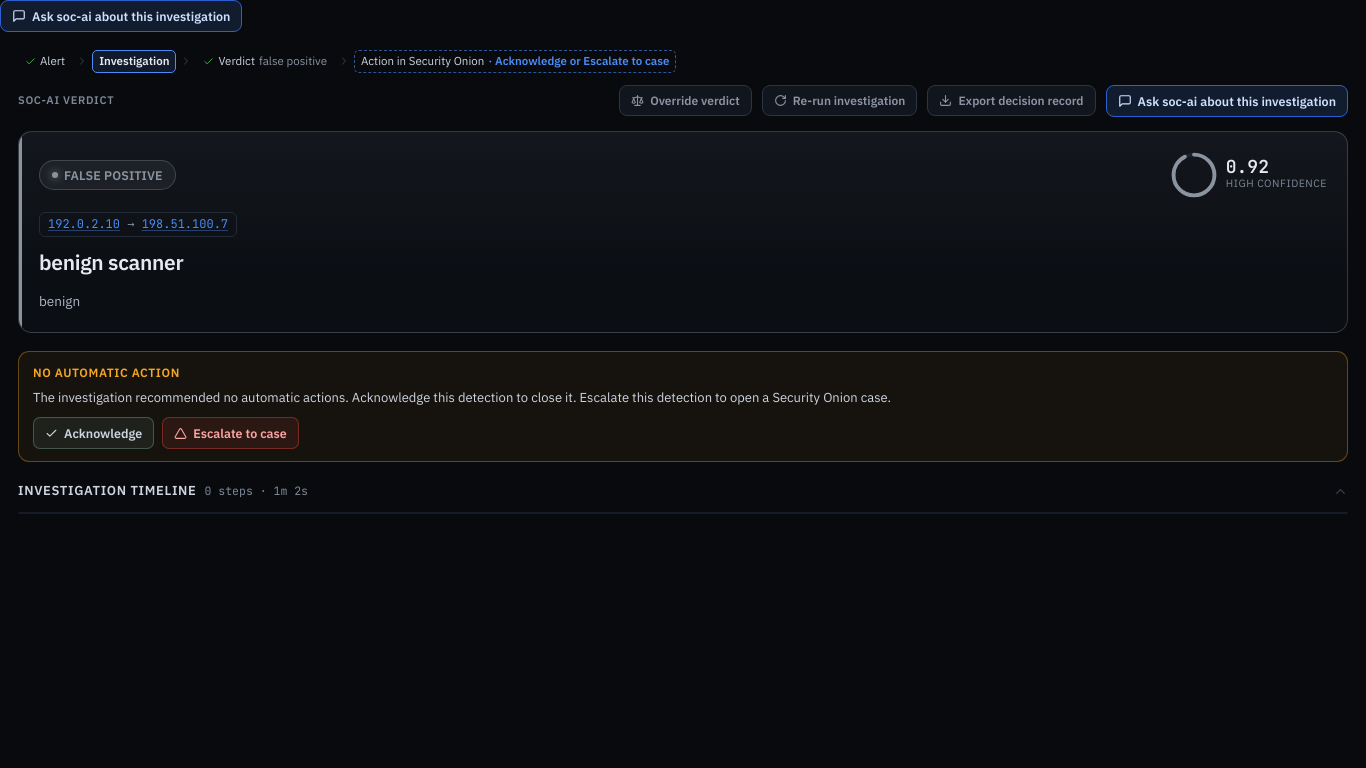
empty investigation chat › renders suggested starter questions when the thread is empty
The width and height of the screenshot is (1366, 768).
The chat is the Ask soc-ai panel. The drawer header opens it.
Step 1. Click the 1st button "Ask soc-ai about this investigation" → [121, 16], box [0,0,242,32]
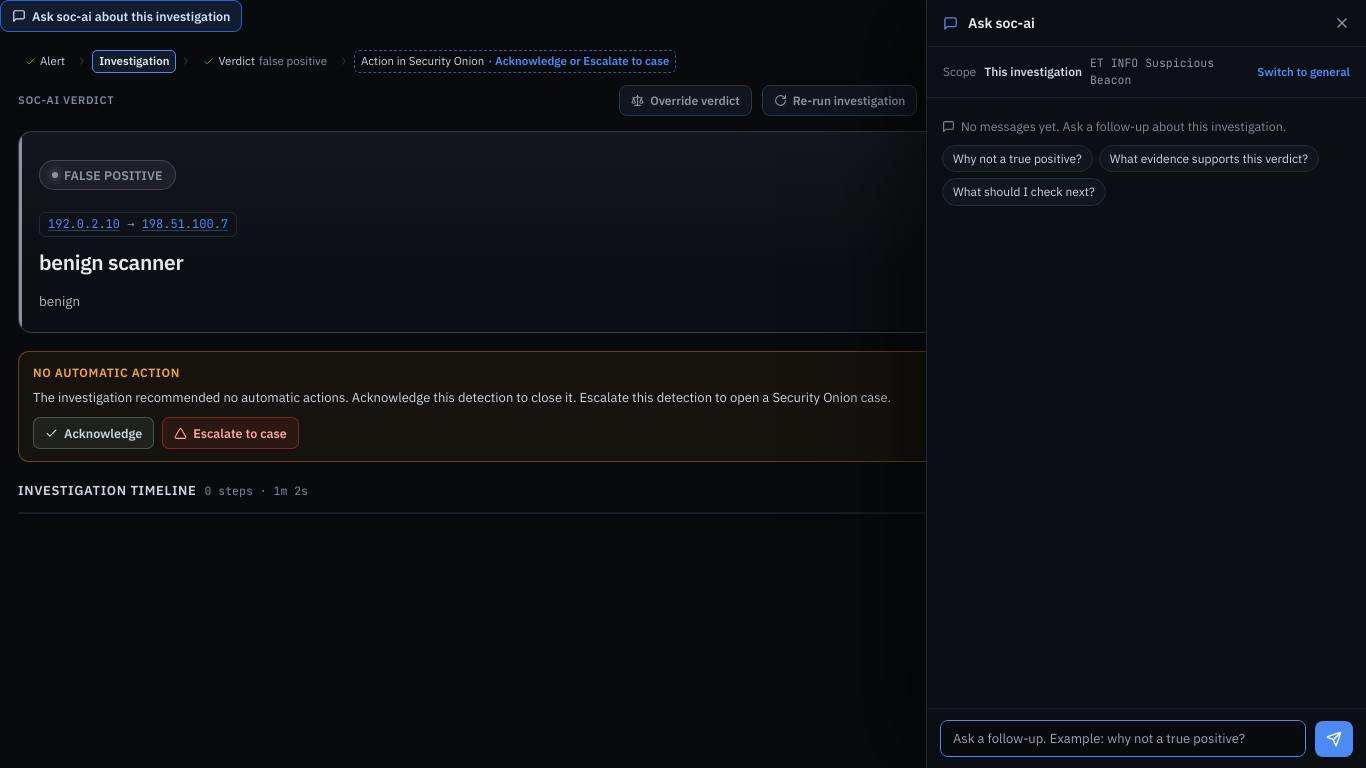
Result: the button "Why not a true positive?" is shown at [942,145,1093,172]
Result: the text "No messages yet. Ask a follow-up about this investigation." is shown at [961,117,1286,135]
